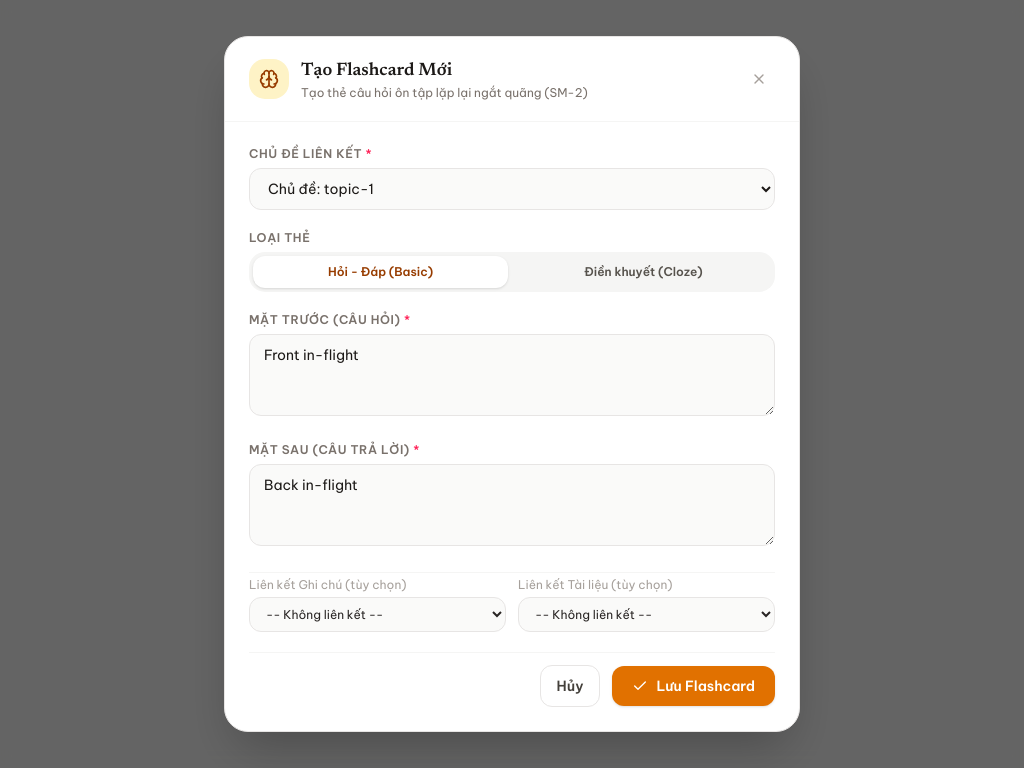
Test case: PR 2 (Phase 25): Flashcard Creation Feedback & Outcome Contract › UI Feedback: FlashcardFormModal › Test 7: FlashcardFormModal disables submit button during request to prevent double submit
Click the button with test id "btn-submit-flashcard" at (694, 686), box [612,666,775,706]
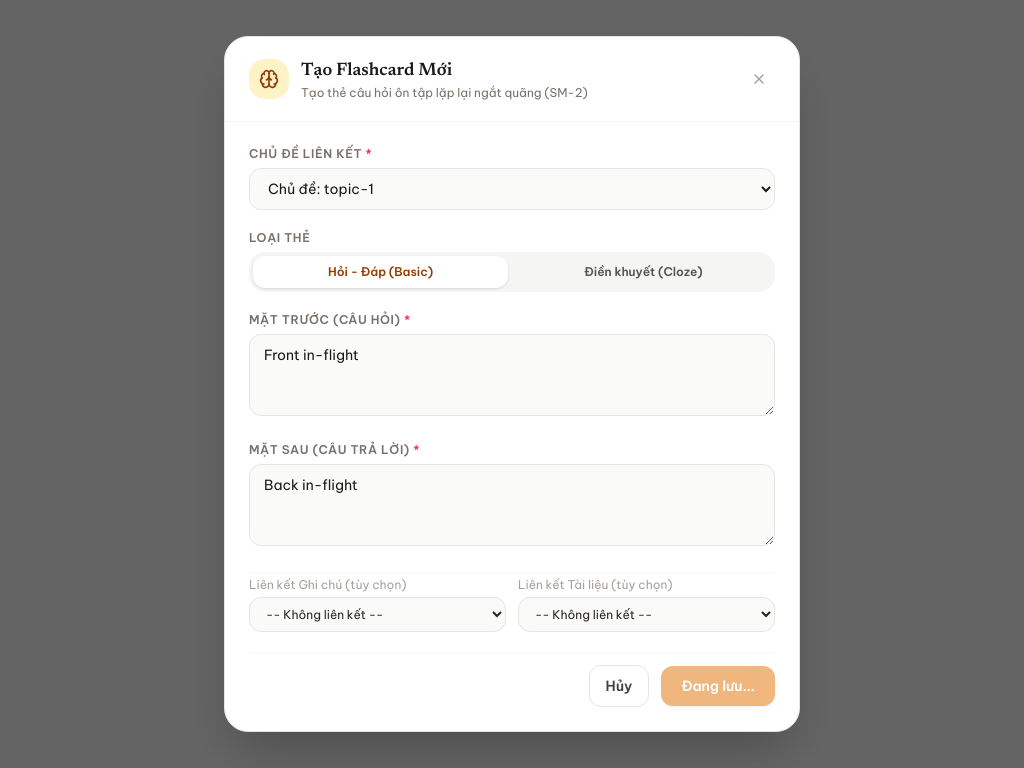
Now the button with test id "btn-submit-flashcard" is disabled
Attempt second click while disabled
Click the button with test id "btn-submit-flashcard" at (718, 686), box [661,666,775,706]
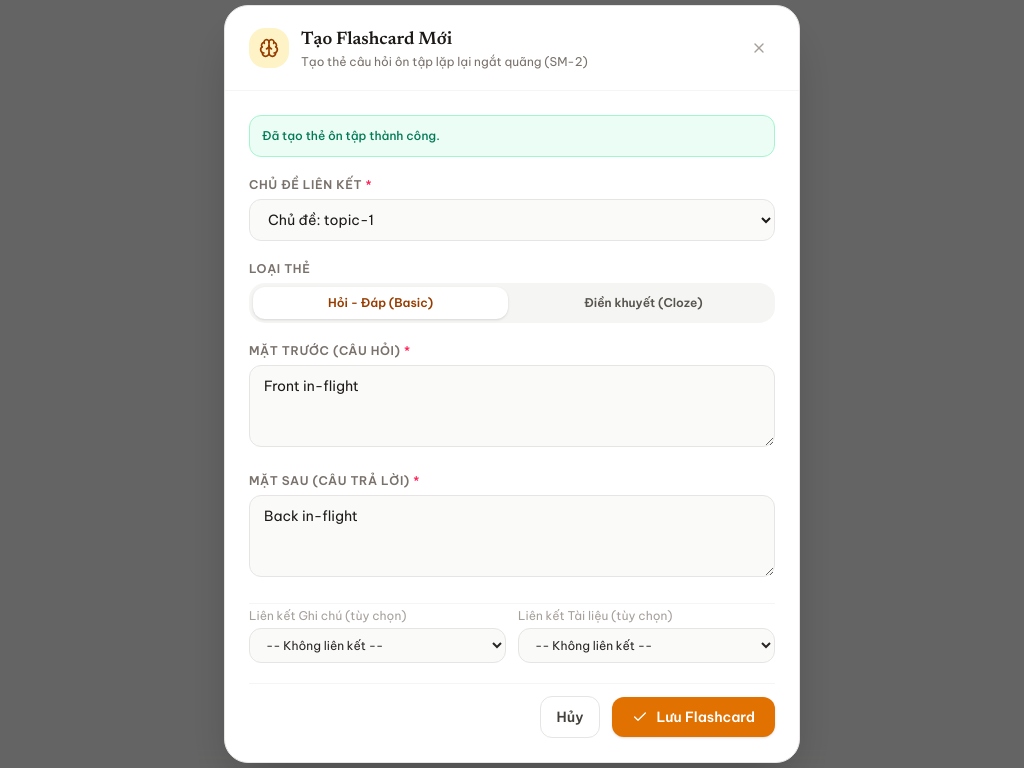
Now the text "Đã tạo thẻ ôn tập thành công." is shown, box [262,128,440,144]
